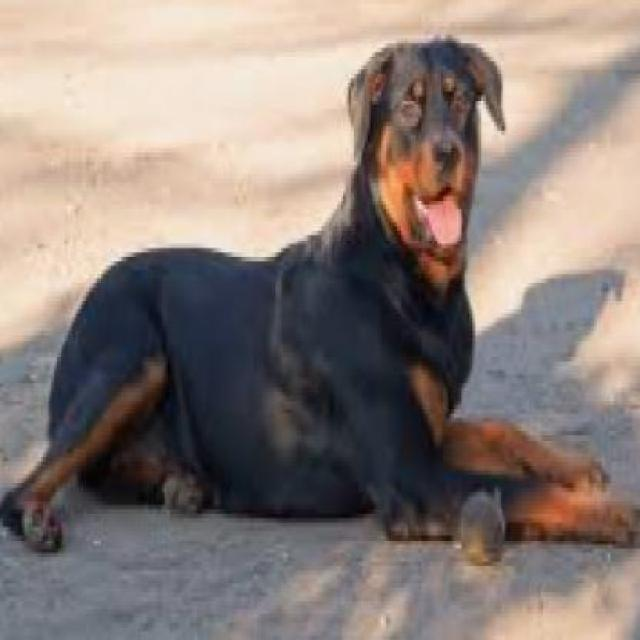Dog: (1, 32, 638, 570)
